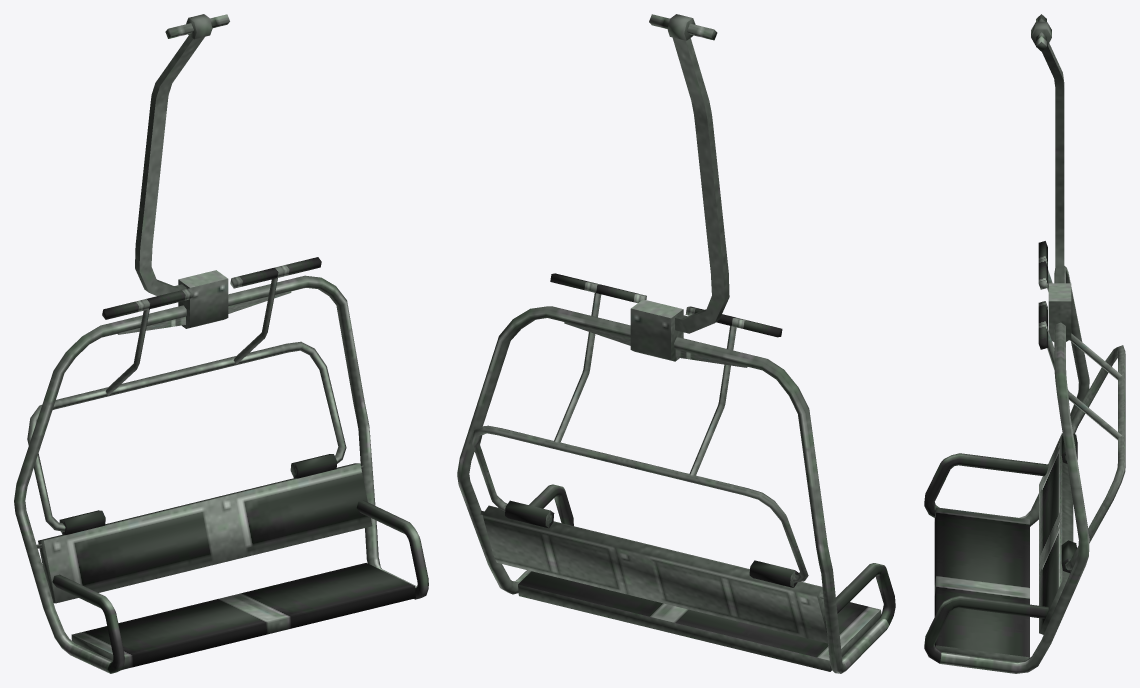
File: int_oth_skilift.dae
3 renders of one model, left to right at view 1: azimuth 30°, elevation 25°; view 2: azimuth 150°, elevation 25°; view 3: azimuth 270°, elevation 25°, orthographic. The views are drawn at different scales.
Visible parts, largest first — view 1: int_oth_skilift; view 2: int_oth_skilift; view 3: int_oth_skilift.
Boxes of the visible parts, x1,y1,x2,y2 form: int_oth_skilift: [14, 14, 428, 673]; int_oth_skilift: [457, 14, 895, 673]; int_oth_skilift: [924, 14, 1125, 673].
Bounding box in the file's own units: 59.88 × 95.75 × 30.74.
Materials: 2 (2 with a texture image).
